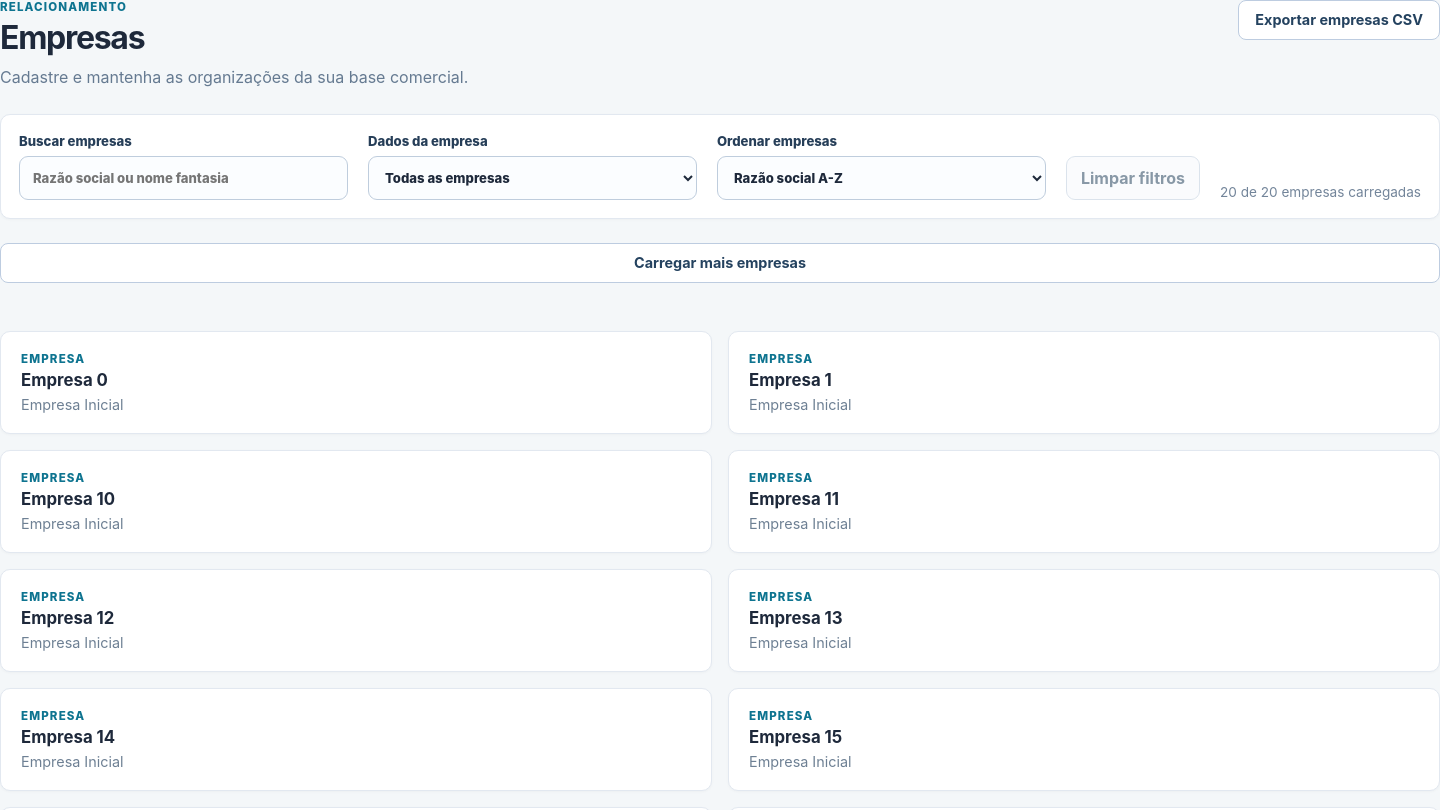
it: loads the next companies page, preserving filters and avoiding duplicate cards
Expected: the heading "Empresa 0" is shown, [21,370,108,390]
Type "posterior" into the search field labelled "Buscar empresas" at [184, 178], box [19,156,348,200]
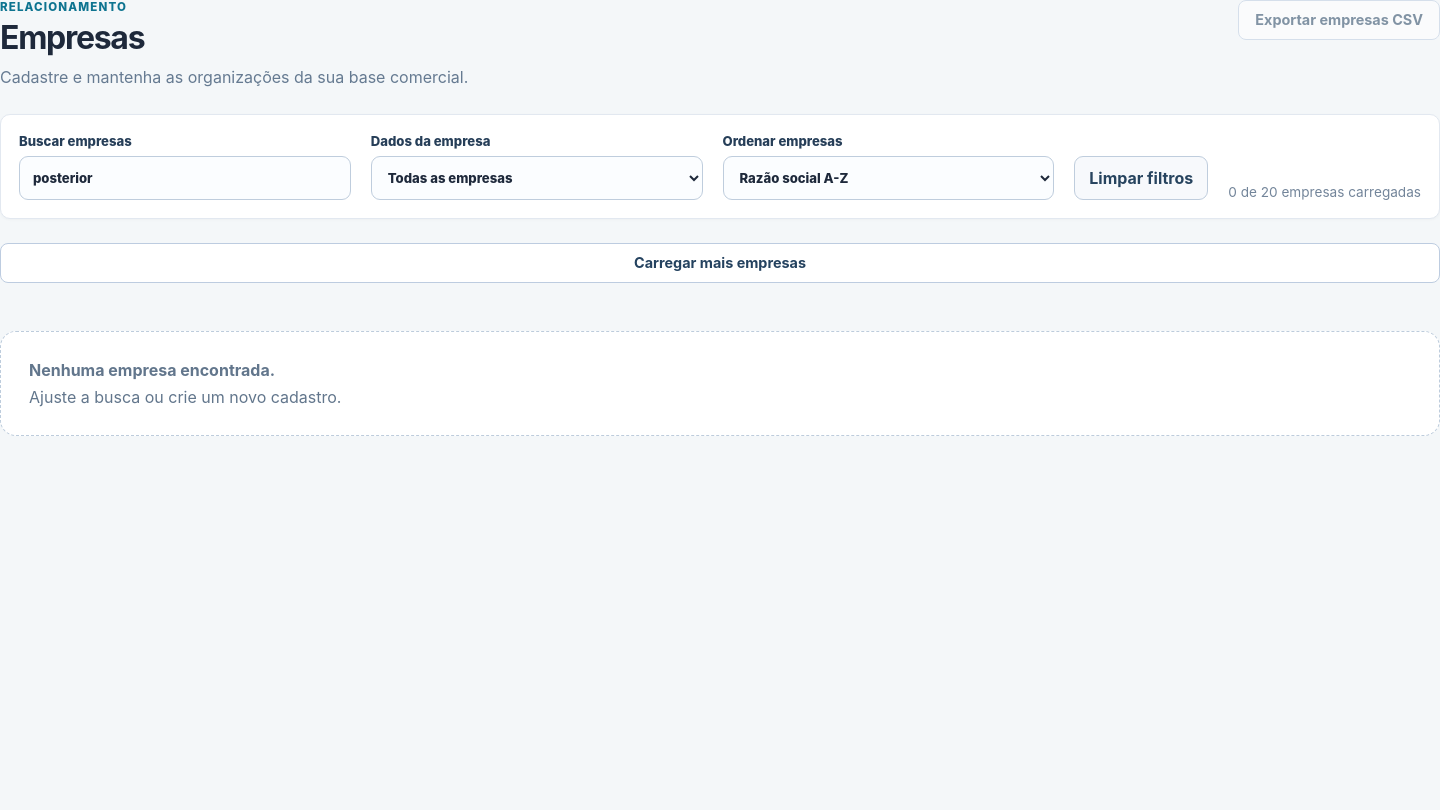
Click the button "Carregar mais empresas" at [720, 263], box [0,243,1439,283]
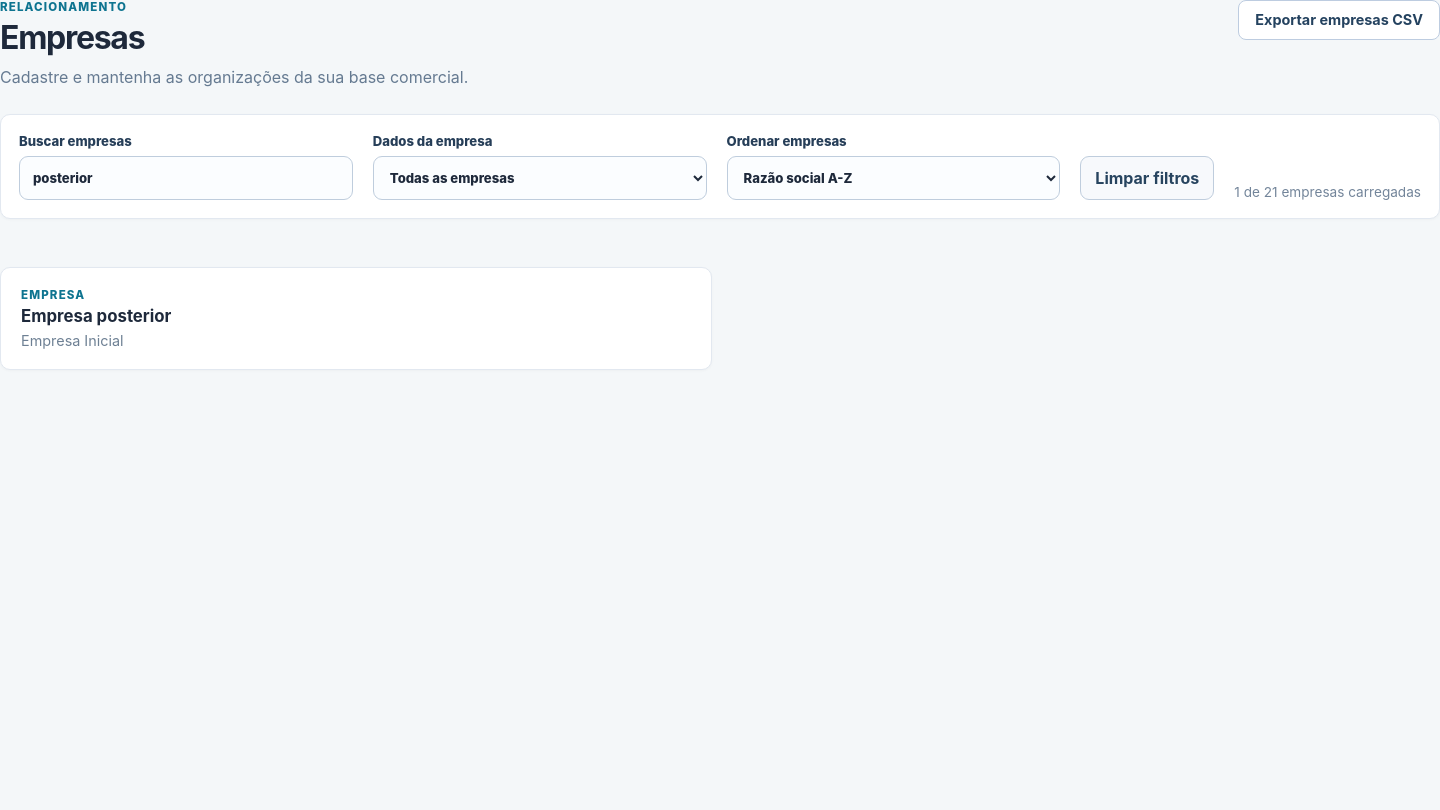
Expected: the heading "Empresa posterior" is shown, [21,306,172,326]
Expected: the text "1 de 21 empresas carregadas" is shown, [1234,184,1421,200]
Expected: the button "Carregar mais empresas" is gone
